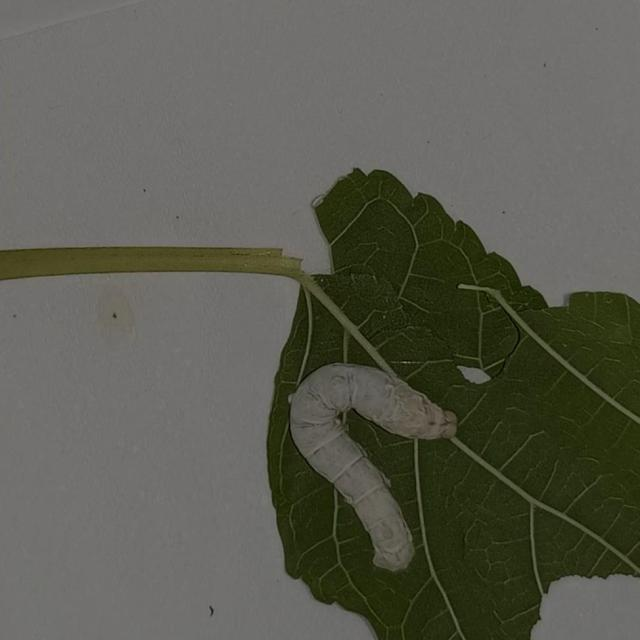Healthy: (272, 347, 514, 592)
